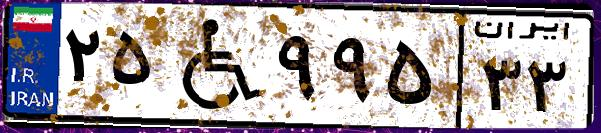2: (57, 26, 110, 100)
3: (475, 38, 525, 113), (525, 38, 570, 115)
5: (385, 28, 445, 110), (110, 28, 158, 98)
9: (270, 28, 330, 110), (330, 28, 385, 110)
ژ (معلولین و جانبازان): (158, 12, 270, 120)
